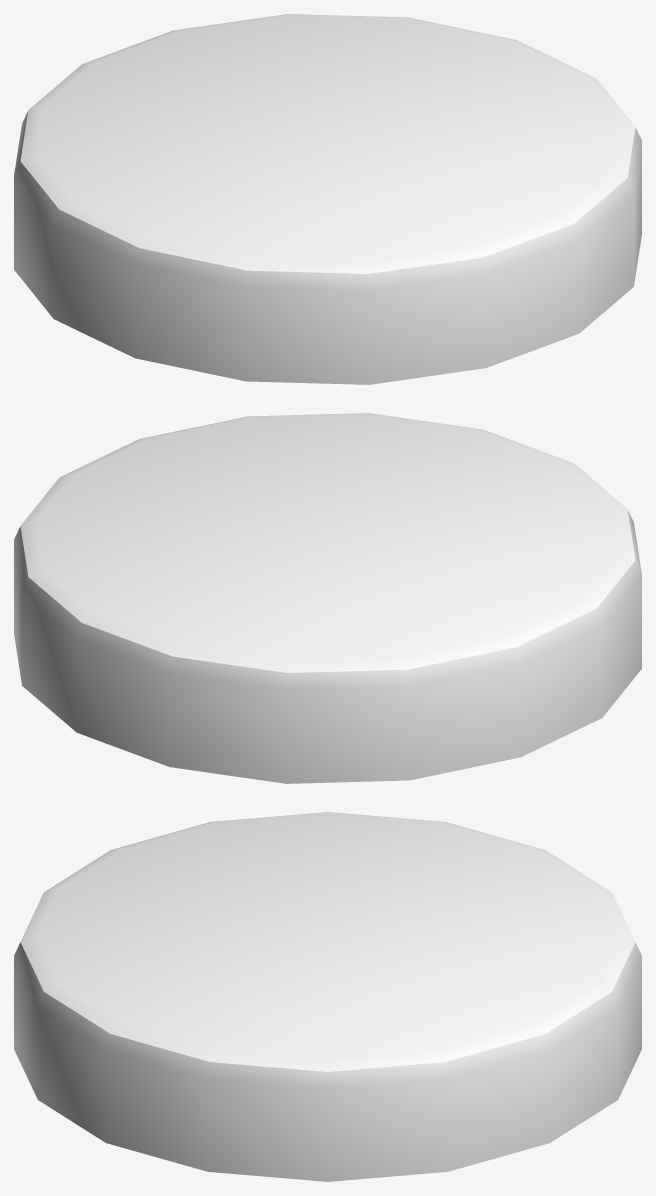
Rendered from coconut_scream_2.fbx.
3 renders of one model, top to bottom at view 1: azimuth 30°, elevation 25°; view 2: azimuth 150°, elevation 25°; view 3: azimuth 270°, elevation 25°, orthographic.
Visible parts, largest first — view 1: coconut_scream_2; view 2: coconut_scream_2; view 3: coconut_scream_2.
Boxes of the visible parts, x1,y1,x2,y2 form: coconut_scream_2: [14, 14, 641, 384]; coconut_scream_2: [14, 413, 641, 783]; coconut_scream_2: [14, 812, 641, 1181].
Size of the model in its own units: 229 by 45.38 by 229.
